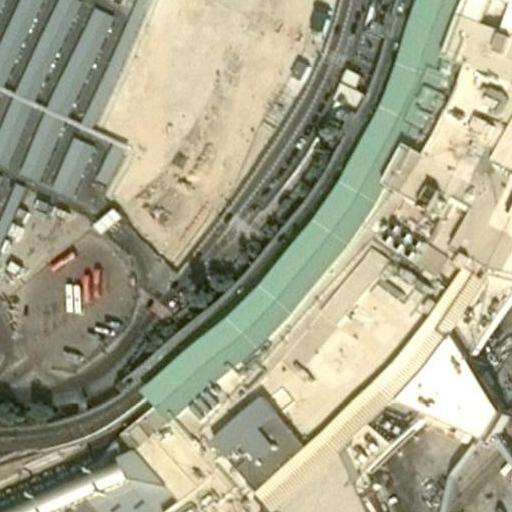Aircraft: (446, 500, 512, 512)
